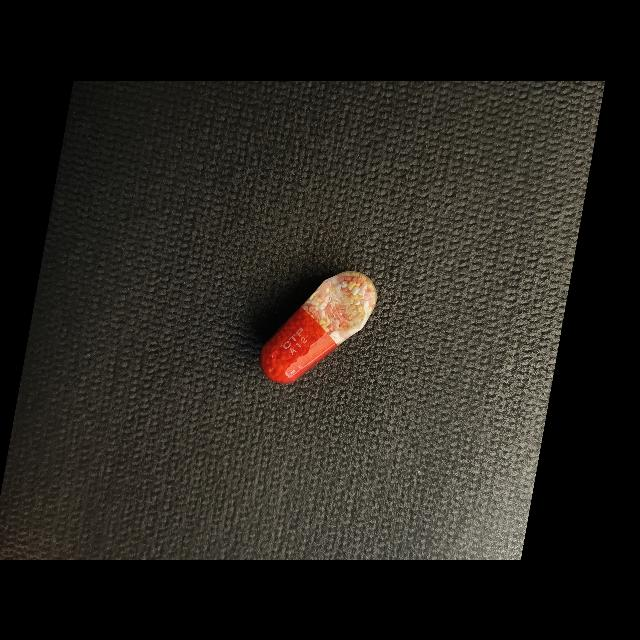Defective Capsule: (260, 270, 377, 383)
